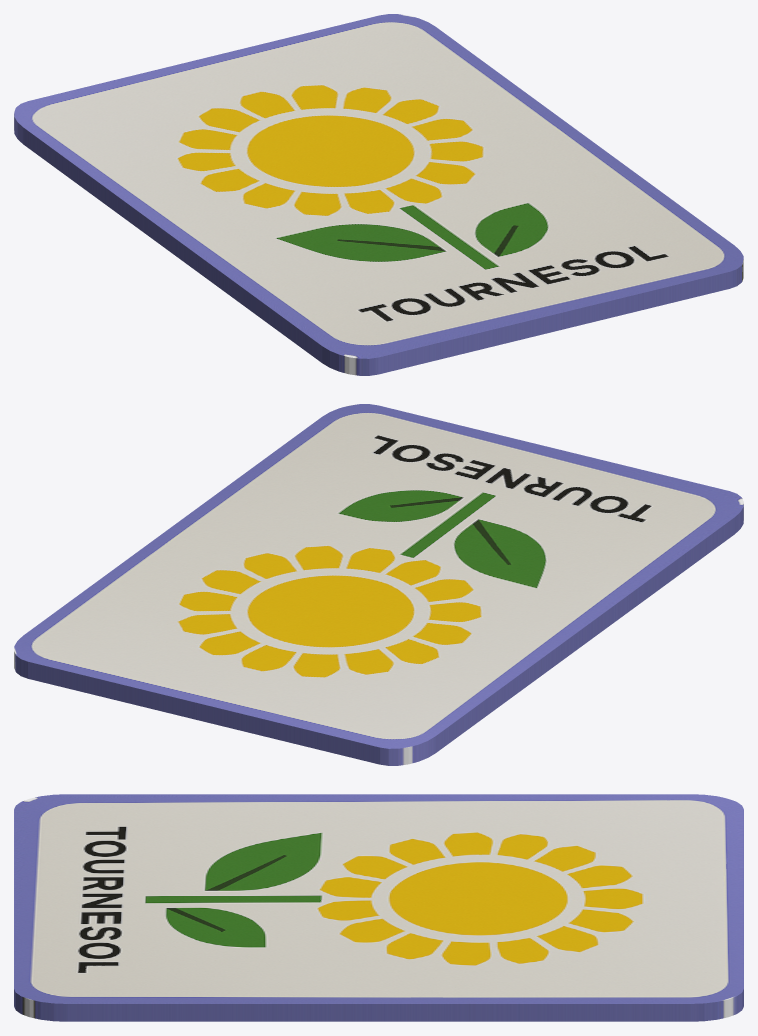
File: carte.glb
3 renders of one model, top to bottom at view 1: azimuth 30°, elevation 25°; view 2: azimuth 150°, elevation 25°; view 3: azimuth 270°, elevation 25°, orthographic. The views are drawn at different scales.
Parts seen in each view (by area): view 1: Plane; view 2: Plane; view 3: Plane.
Boxes of the visible parts, left/top/right/bottom form: Plane: left=14, top=14, right=743, bottom=375; Plane: left=14, top=404, right=743, bottom=765; Plane: left=14, top=794, right=743, bottom=1021.
Size of the model in its own units: 1.36 by 0.0539 by 2.
Materials: 2 (2 with a texture image).
